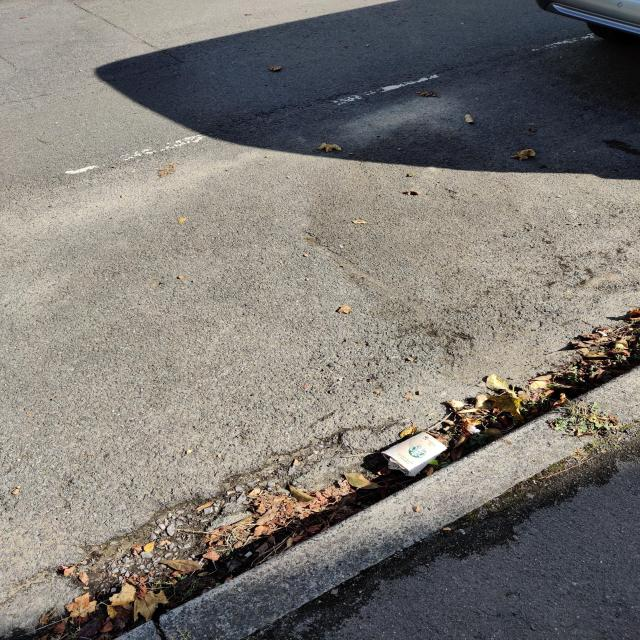litter: (366, 423, 448, 490)
